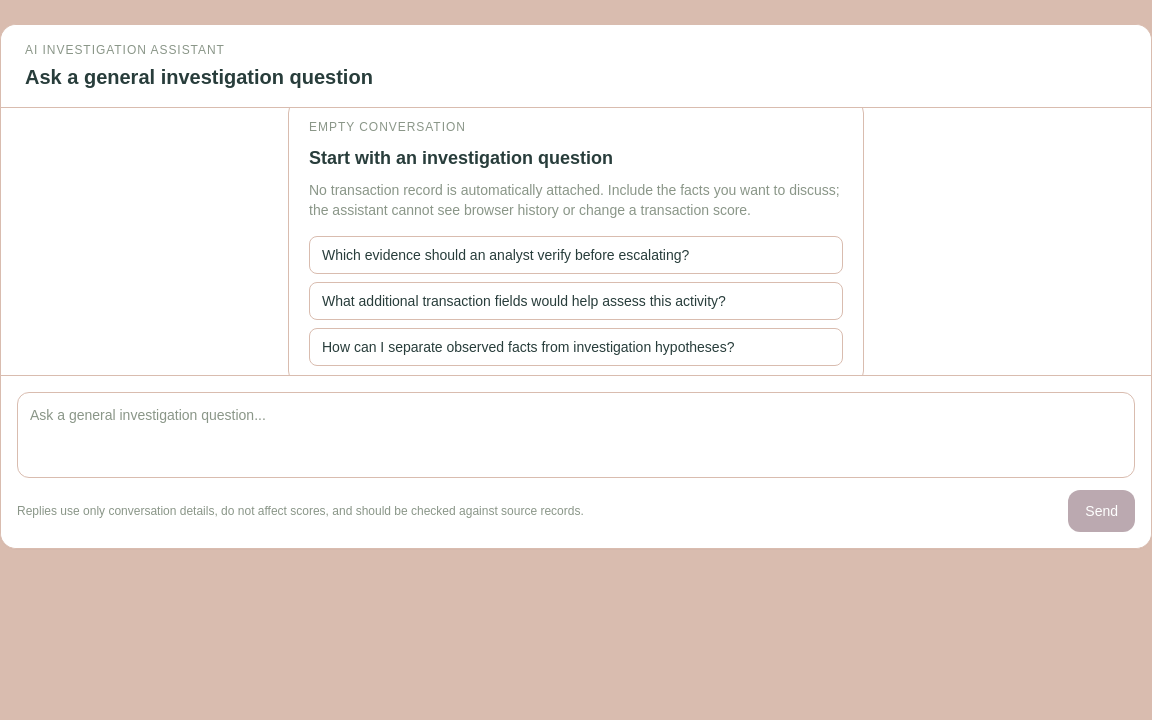
Test: AIChat › fills the message input when a suggested prompt is clicked
This screenshot has width=1152, height=720.
Click the button "Which evidence should an analyst verify before escalating?" at coordinates (576, 254), box [309,236,843,274]
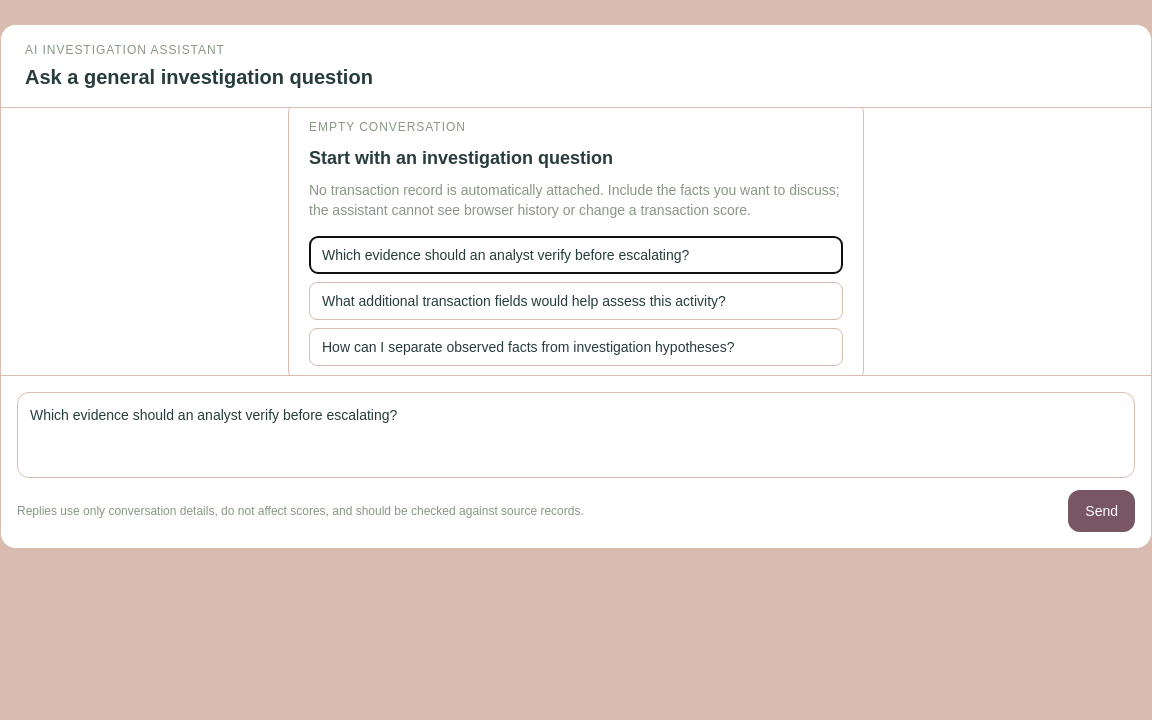
Expected: the text box named "Message the AI investigation assistant" holds "Which evidence should an analyst verify before escalating?", [17,392,1135,478]
